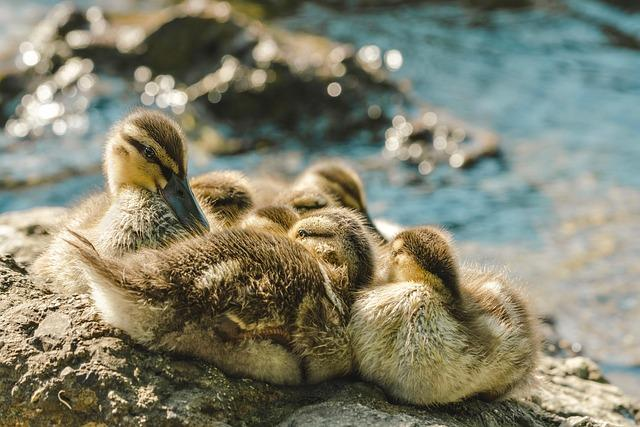Non_Gorille: (59, 53, 559, 407)
